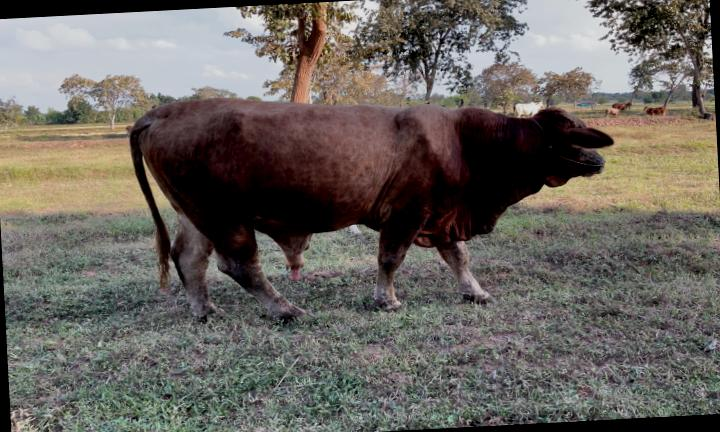Charolais: (130, 98, 613, 317)
